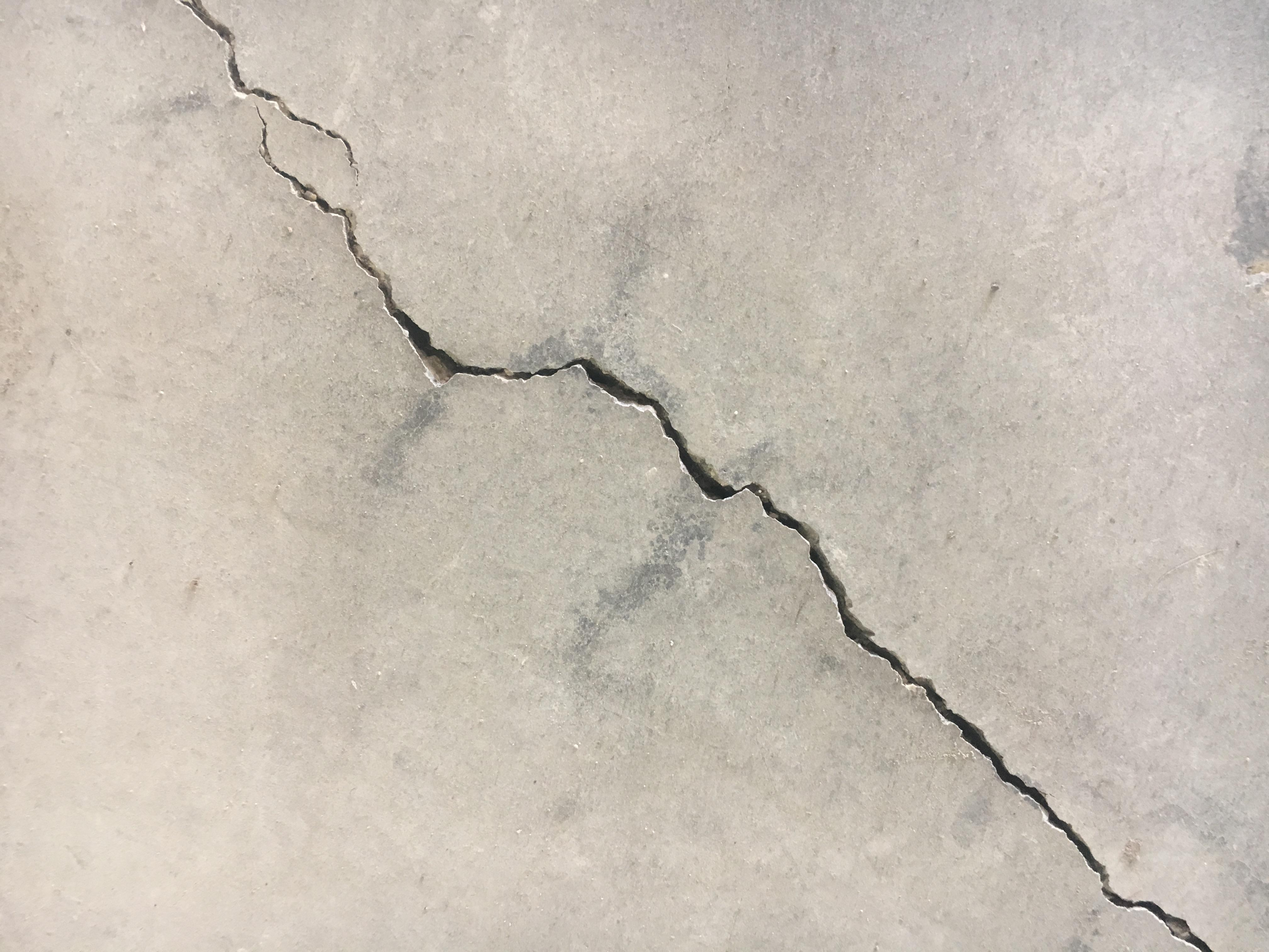Diagonal Crack: (175, 2, 1213, 948)
